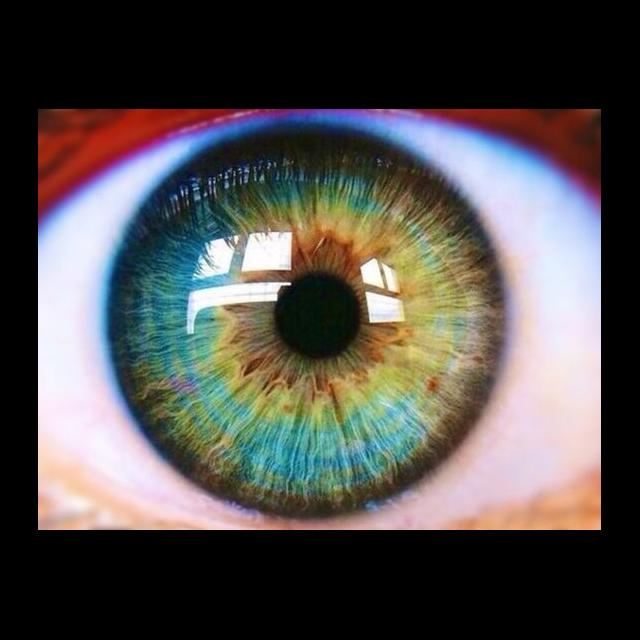iris: (106, 124, 534, 514)
